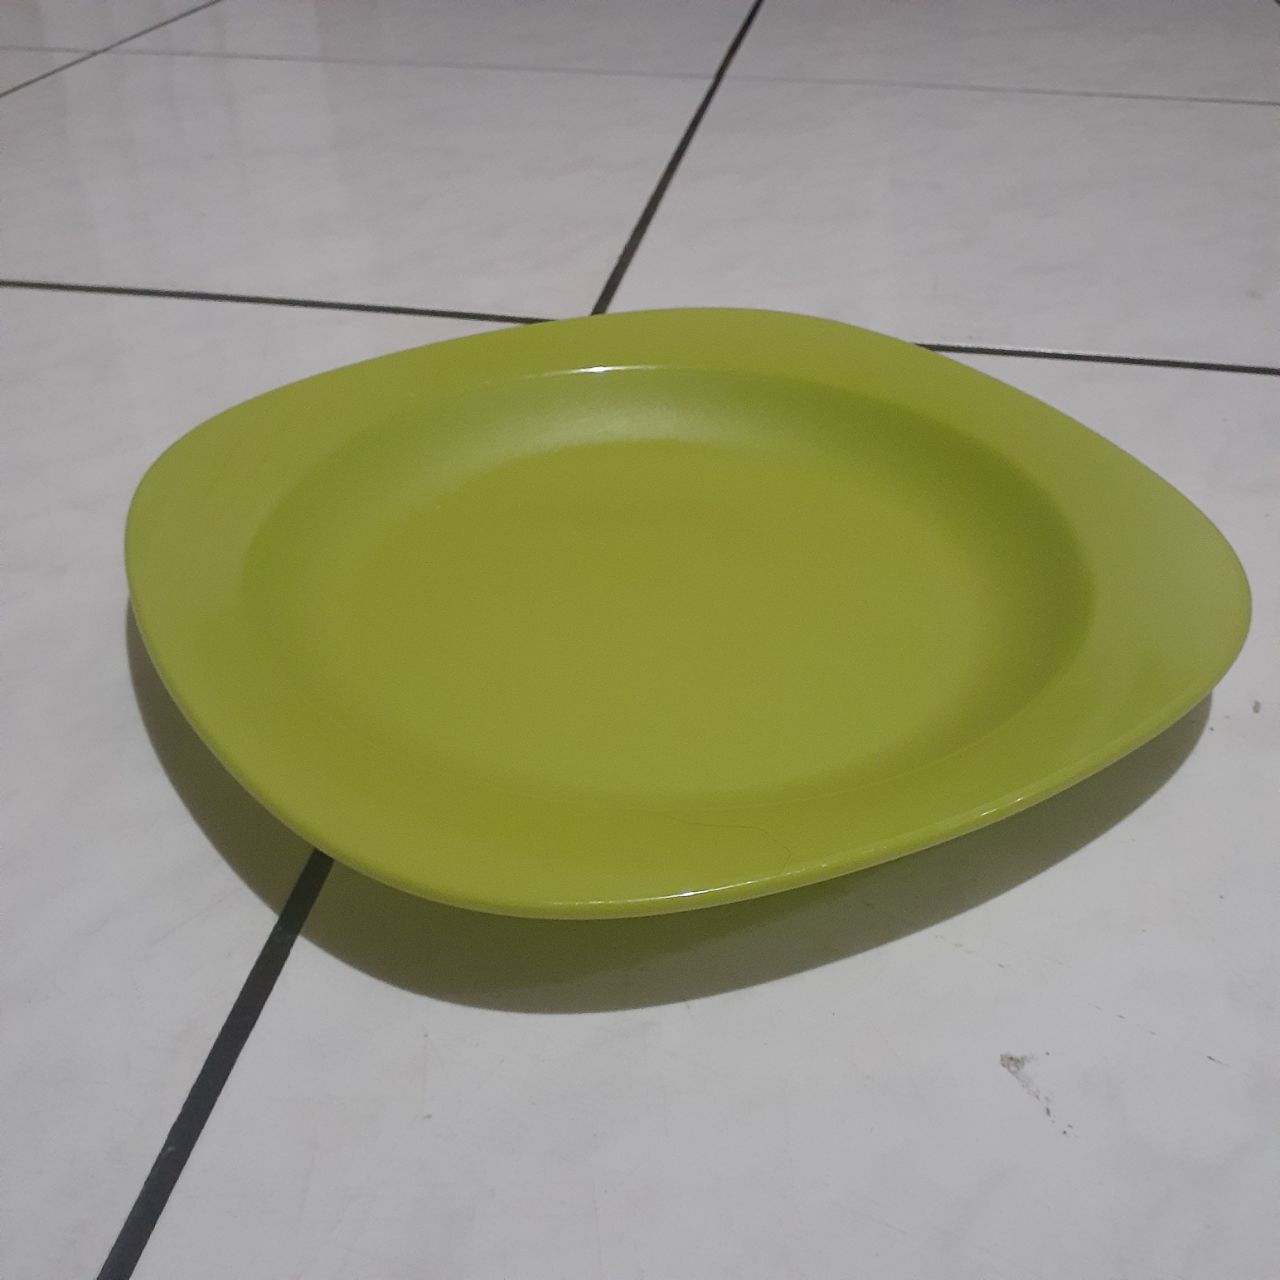piring: (122, 290, 1252, 932)
